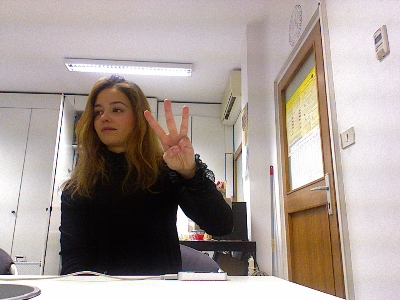三分: (142, 98, 196, 172)
